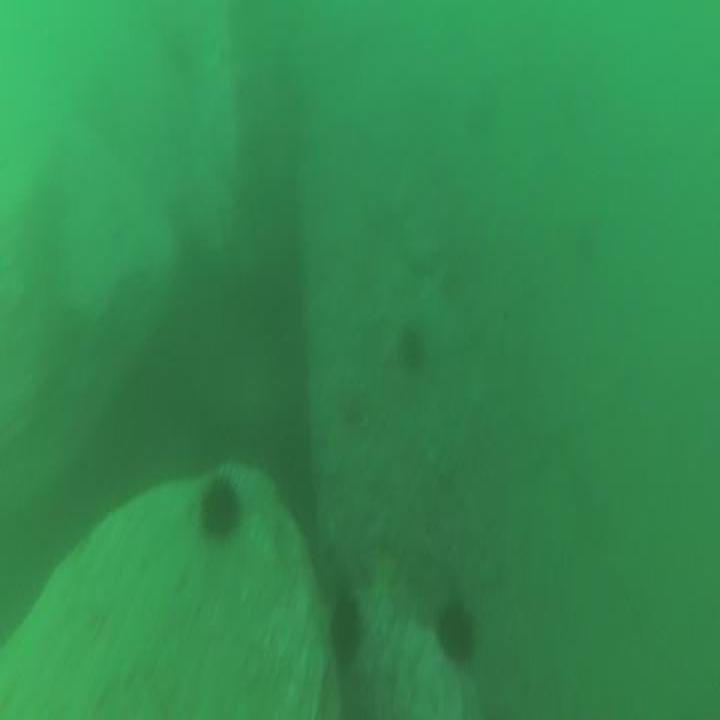echinus: (437, 597, 478, 663), (199, 475, 238, 533), (328, 599, 360, 661), (401, 325, 423, 363)
